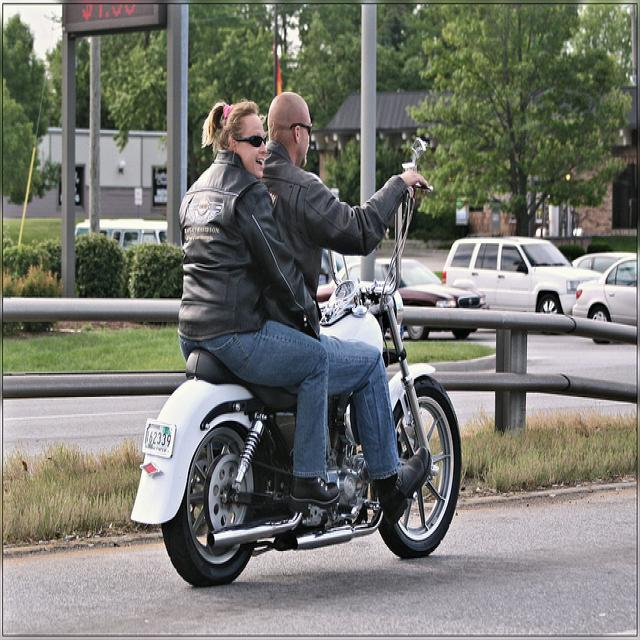motor: (129, 185, 464, 589)
